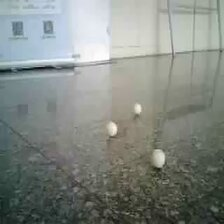w: (150, 148, 166, 169), (105, 120, 118, 138), (132, 103, 142, 114)
